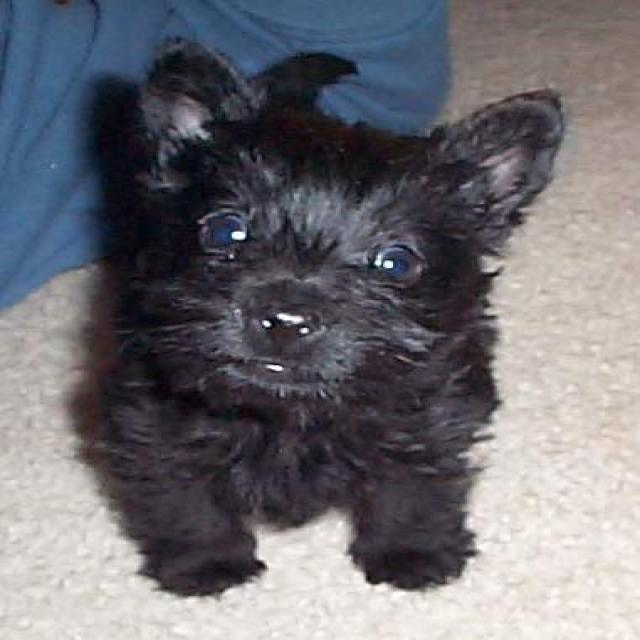dog: (138, 36, 562, 387)
